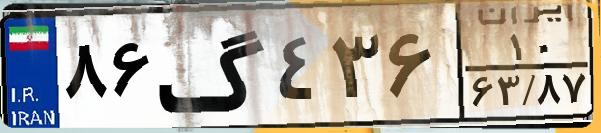0: (537, 27, 568, 80)
1: (508, 27, 537, 80)
3: (330, 28, 385, 110), (495, 70, 520, 125)
4: (270, 28, 330, 110)
6: (385, 28, 445, 110), (110, 28, 156, 98), (470, 70, 495, 125)
7: (560, 70, 590, 125)
8: (57, 26, 110, 100), (535, 70, 560, 125)
گ: (156, 12, 270, 120)
